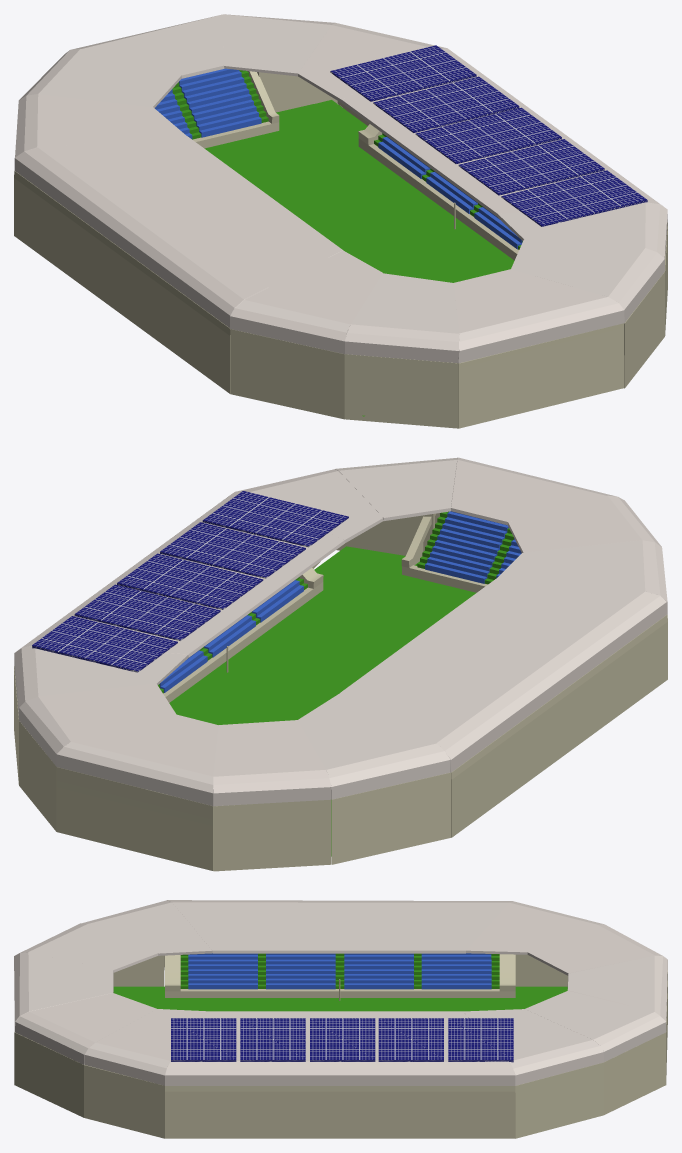
File: demeent (1).fbx
3 views of the same model, one above another, from view 1: azimuth 30°, elevation 25°; view 2: azimuth 150°, elevation 25°; view 3: azimuth 270°, elevation 25° (orthographic). The views are drawn at different scales.
Visible parts, largest first — view 1: Box187.001, Box177, Box166, Box165.002, Box189.010, Box189.008, Box189.009, Box169.001, Box169.002, Box189.007, Box189.004, Box189.005 (+21 smaller); view 2: Box187.001, Box177, Box166, Box165.001, Box189.001, Box189.004, Box189.005, Box169.005, Box169.004, Box189.002, Box189.008, Box189.010 (+20 smaller); view 3: Box164, Box187.001, Box187, Box177, Box189.007, Box189.003, Box189.002, Box169.006, Box189.006, Box189.010, Box169.008, Box166 (+20 smaller).
Part boxes in pixels (bbox=[...]): Box187.001: bbox=[14, 136, 342, 327]; Box177: bbox=[204, 104, 514, 416]; Box166: bbox=[14, 171, 230, 393]; Box165.002: bbox=[458, 323, 624, 428]; Box189.010: bbox=[453, 269, 624, 363]; Box189.008: bbox=[230, 250, 382, 354]; Box189.009: bbox=[345, 273, 459, 363]; Box169.001: bbox=[344, 354, 458, 428]; Box169.002: bbox=[230, 329, 344, 419]; Box189.007: bbox=[511, 239, 664, 322]; Box189.004: bbox=[15, 94, 186, 157]; Box189.005: bbox=[19, 49, 181, 107]; Box187.001: bbox=[340, 578, 666, 772]; Box177: bbox=[169, 549, 476, 724]; Box166: bbox=[451, 614, 667, 837]; Box165.001: bbox=[56, 767, 213, 870]; Box189.001: bbox=[56, 714, 218, 805]; Box189.004: bbox=[298, 693, 450, 799]; Box189.005: bbox=[213, 720, 331, 806]; Box169.005: bbox=[332, 772, 451, 864]; Box169.004: bbox=[213, 799, 331, 871]; Box189.002: bbox=[19, 683, 176, 766]; Box189.008: bbox=[496, 540, 667, 614]; Box189.010: bbox=[451, 457, 616, 525]; Box164: bbox=[165, 1086, 515, 1138]; Box187.001: bbox=[167, 900, 512, 953]; Box187: bbox=[165, 1011, 515, 1085]; Box177: bbox=[113, 989, 501, 1011]; Box189.007: bbox=[15, 993, 156, 1064]; Box189.003: bbox=[463, 1009, 603, 1085]; Box189.002: bbox=[525, 991, 666, 1061]; Box169.006: bbox=[515, 1062, 603, 1138]; Box189.006: bbox=[84, 1009, 209, 1085]; Box189.010: bbox=[14, 952, 113, 1030]; Box169.008: bbox=[84, 1065, 164, 1138]; Box166: bbox=[165, 954, 515, 997].
Bounding box in the file's own units: 643 × 125 × 1026.
Materials: 33 (1 with a texture image).
